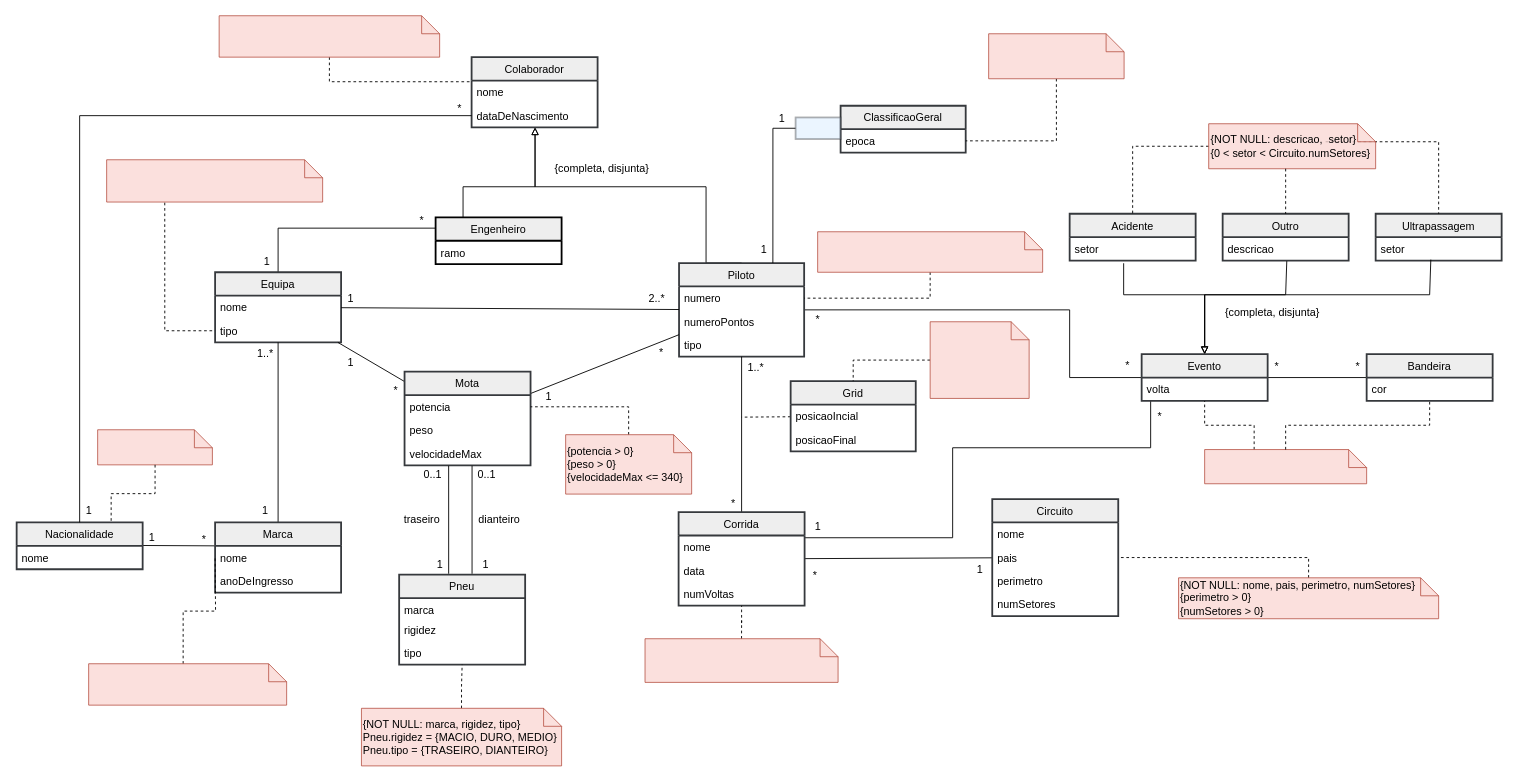
The diagram is 1517 pixels wide and 782 high, and some of its shapes have lost their labels. Here are the shapes that lost their labels. From the top down, the centre of each, then its label:
the point at 329,36: {NOT NULL: nome, dataDeNascimento, nacionalidade}
the point at 1056,56: {NOT NULL: epoca} {epoca >= 1949}
the point at 817,128: lugar
the point at 214,180: {NOT NULL: nome, tipo, numeroPontos} Equipa.tipo = {FABRICA, SATELITE}
the point at 930,251: {NOT NULL: numero, tipo, numeroPontos} Piloto.tipo = {PRINCIPAL, RESERVA}
the point at 979,359: {NOT NULL: posicaoInicial, posicaoFinal} {posicaoInicial > 0} {posicaoFinal > 0}
the point at 154,447: {NOT NULL: nome}
the point at 1285,466: {NOT NULL: cor, volta} {0 < volta < Corrida.numVoltas}
the point at 741,660: {NOT NULL: nome, numVoltas, data} {numVoltas > 0}
the point at 187,684: {NOT NULL: nome, anoDeIngresso} {anoDeIngresso >= 1949}
